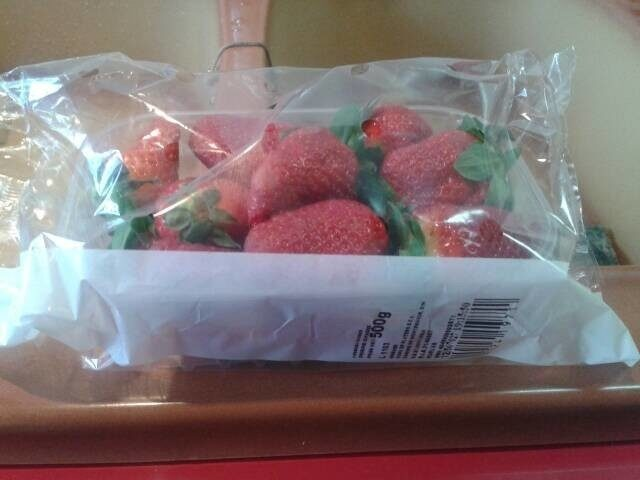Erdbeeren: (32, 24, 608, 456)
